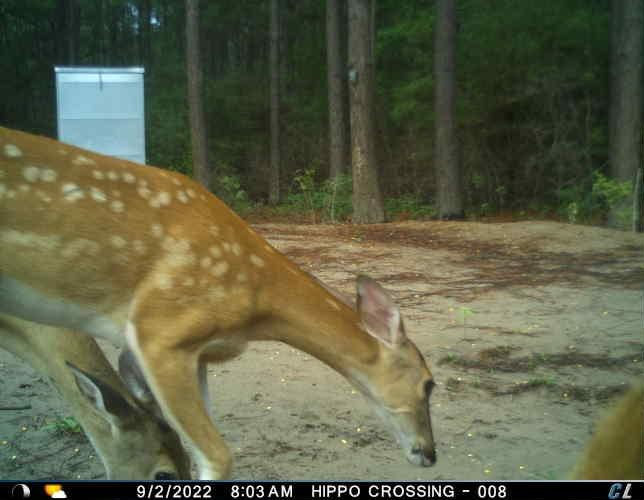Deer: (0, 124, 438, 481), (0, 318, 187, 479), (568, 357, 644, 482)
